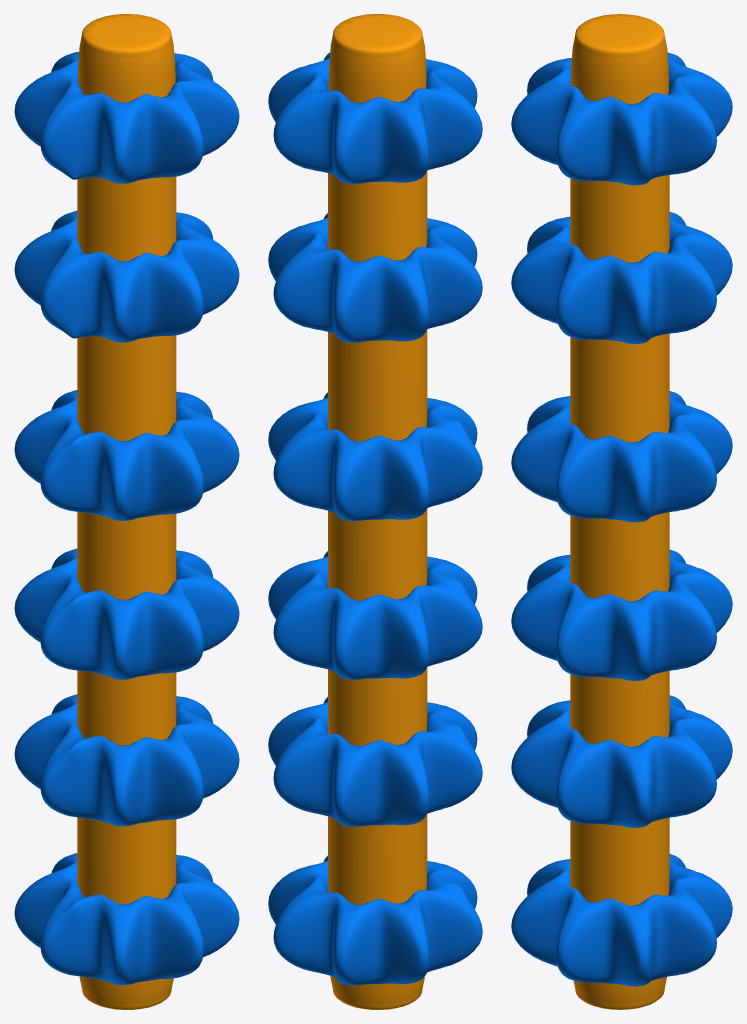
3 views of the same model, side by side, from view 1: azimuth 30°, elevation 25°; view 2: azimuth 150°, elevation 25°; view 3: azimuth 270°, elevation 25° (orthographic).
Parts seen in each view (by area): view 1: Kol.002, Knife.008, Knife.009, Knife.023, Knife.021, Knife.024, Knife.022; view 2: Kol.002, Knife.008, Knife.023, Knife.021, Knife.009, Knife.024, Knife.022; view 3: Kol.002, Knife.008, Knife.023, Knife.021, Knife.009, Knife.022, Knife.024.
Part boxes in pixels (x1,y1,x2,y2): Kol.002: (77,14,176,1009); Knife.008: (14,52,239,183); Knife.009: (14,211,239,342); Knife.023: (14,853,239,985); Knife.021: (14,694,239,826); Knife.024: (14,548,239,679); Knife.022: (14,390,239,520); Kol.002: (328,14,427,1009); Knife.008: (268,52,482,183); Knife.023: (268,855,482,985); Knife.021: (268,697,482,826); Knife.009: (268,213,482,342); Knife.024: (268,551,482,679); Knife.022: (268,392,482,520); Kol.002: (570,14,669,1009); Knife.008: (511,52,732,185); Knife.023: (511,854,732,986); Knife.021: (511,695,732,827); Knife.009: (511,212,732,343); Knife.022: (511,391,732,522); Knife.024: (511,549,732,680).
Bounding box in the file's own units: 12.02 × 57.52 × 12.02.
